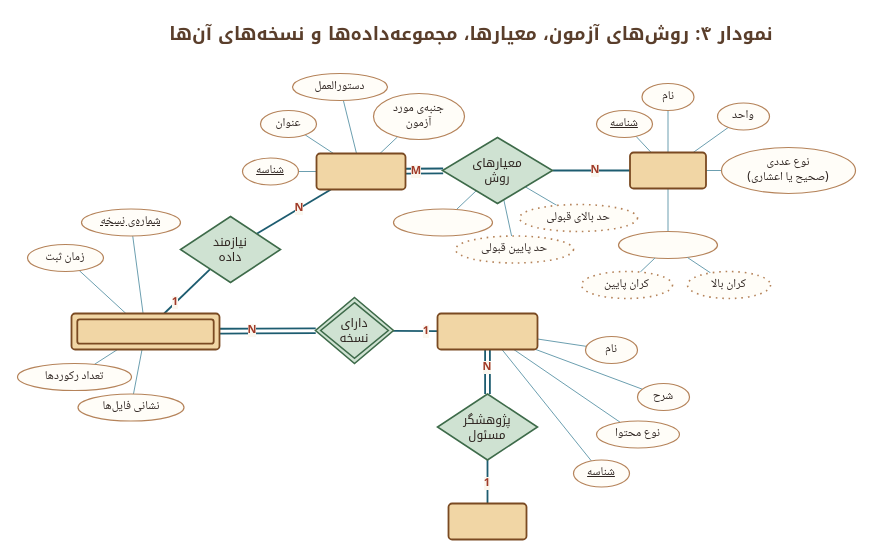
This 889x557 diagram has some shape labels left out. The shapes that lost their labels are listed below. From the top down, each one's centre as x and y in pixels, then its label:
At (360,171): "روش آزمون".
At (667,170): "معیار".
At (442,222): "الزامی بودن".
At (667,244): "دامنه‌ی مجاز".
At (145,331): "نسخه‌ی مجموعه‌داده".
At (487,331): "مجموعه‌داده".
At (487,521): "پژوهشگر".
